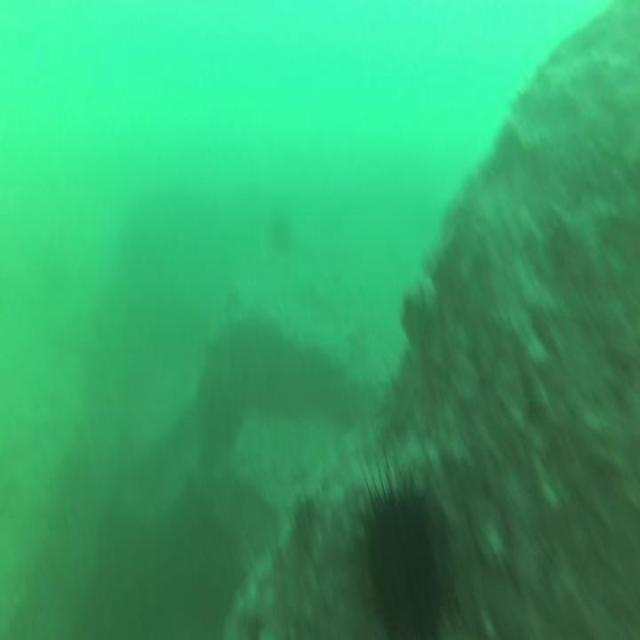echinus: (363, 487, 440, 629), (398, 297, 428, 341)
